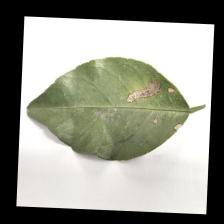canker: (109, 71, 189, 132)
